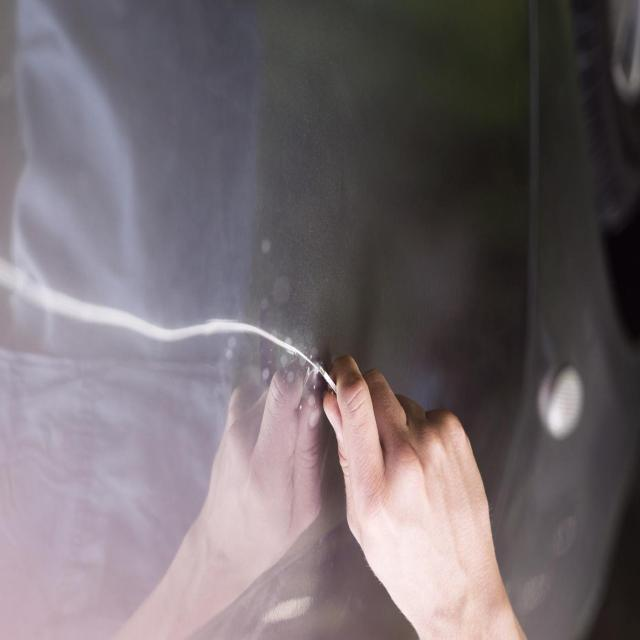scratch: (118, 290, 322, 382)
